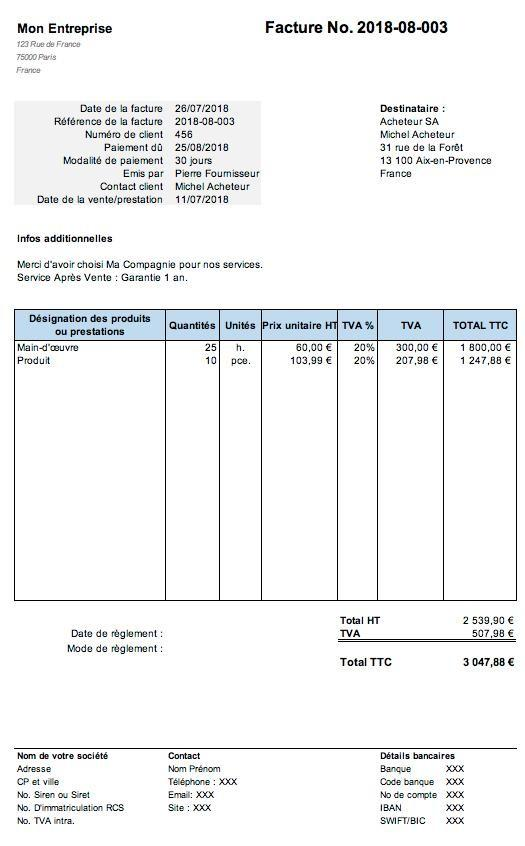ROI: (12, 307, 520, 604), (12, 101, 264, 209), (13, 750, 242, 827), (332, 611, 520, 689), (374, 97, 501, 200), (378, 750, 473, 828)
